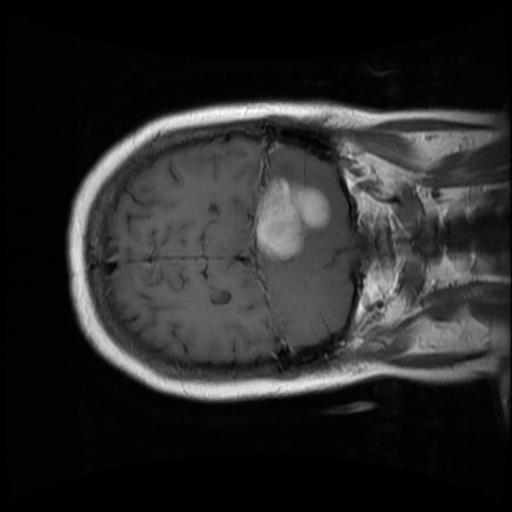meningioma: (256, 179, 332, 261)
